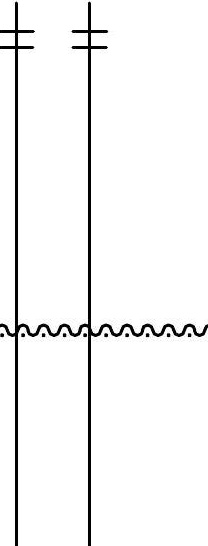115_buffer: (71, 30, 108, 49)
